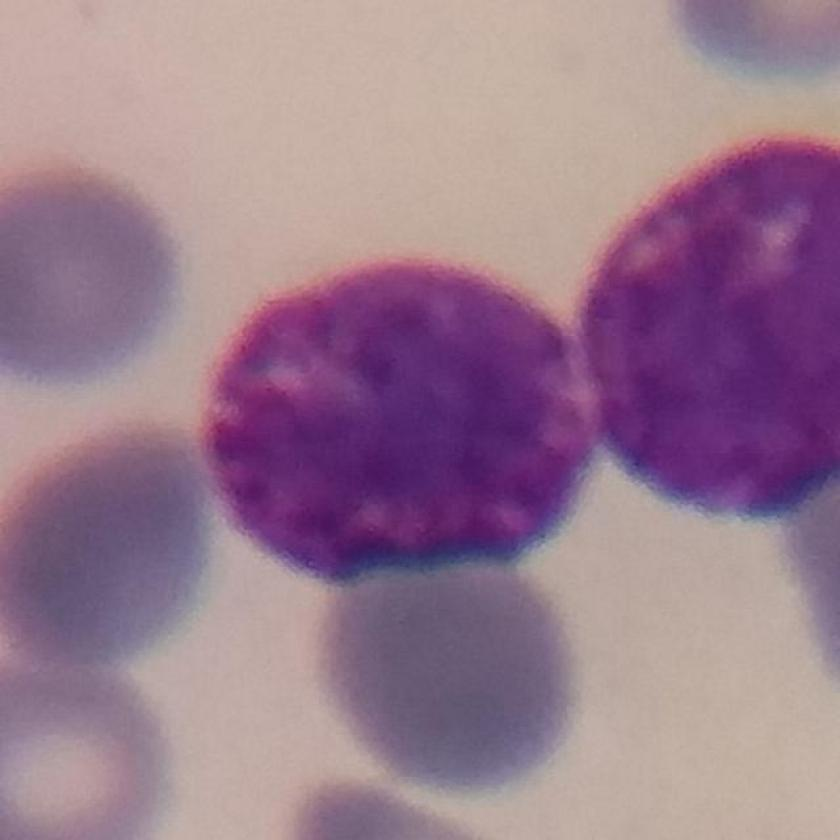basophil: (207, 243, 598, 584), (580, 113, 840, 528)
